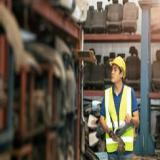Helmet: (109, 54, 126, 78)
Vest: (104, 84, 135, 153)
